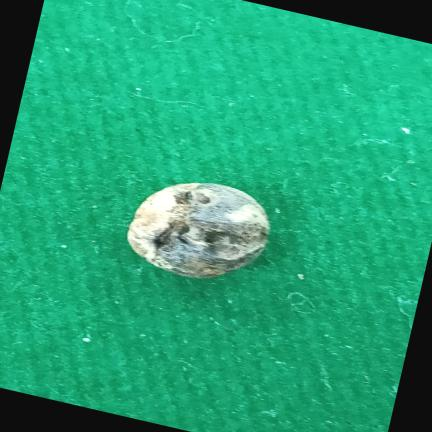partial-black: (127, 183, 269, 278)
